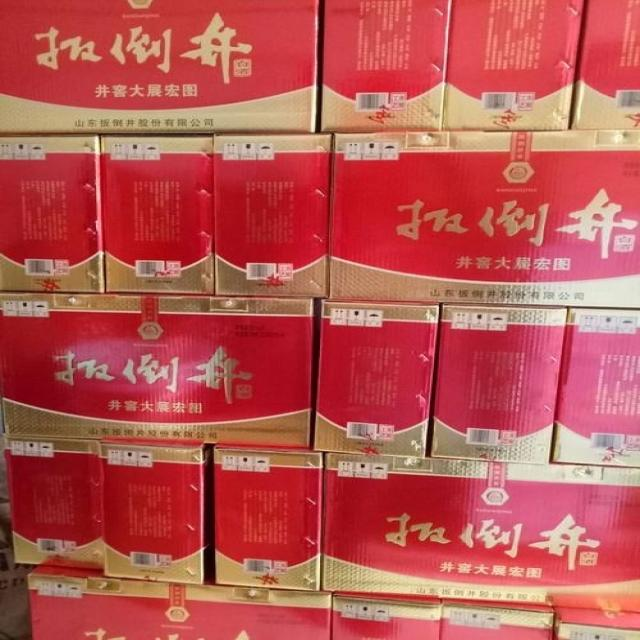box: (328, 129, 640, 309), (0, 289, 314, 453), (321, 452, 640, 610), (29, 564, 330, 640), (430, 305, 570, 464), (312, 298, 440, 458), (211, 133, 333, 297), (97, 134, 214, 296), (442, 0, 585, 130), (320, 0, 452, 132), (100, 440, 216, 585), (215, 444, 326, 589), (550, 307, 640, 469), (3, 434, 105, 570), (570, 1, 640, 130), (330, 594, 442, 640), (442, 598, 553, 639), (553, 606, 639, 640)
